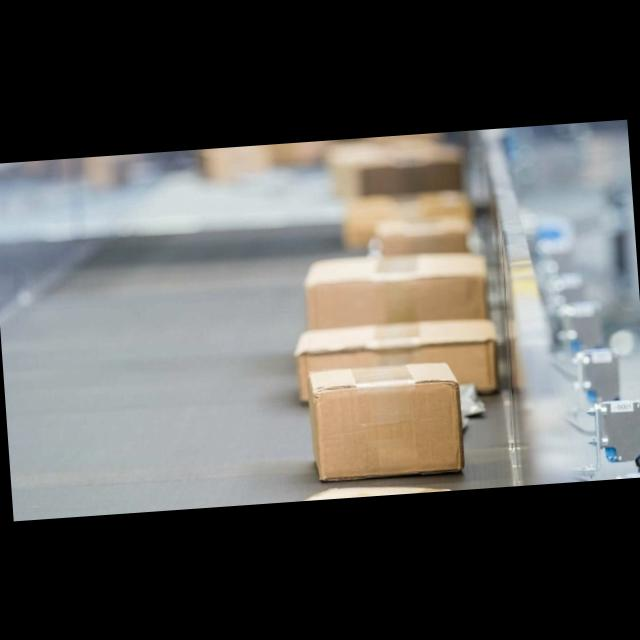box: (306, 360, 467, 485), (292, 316, 496, 404), (301, 248, 491, 330), (373, 214, 468, 256)
mailer: (304, 479, 444, 502)
